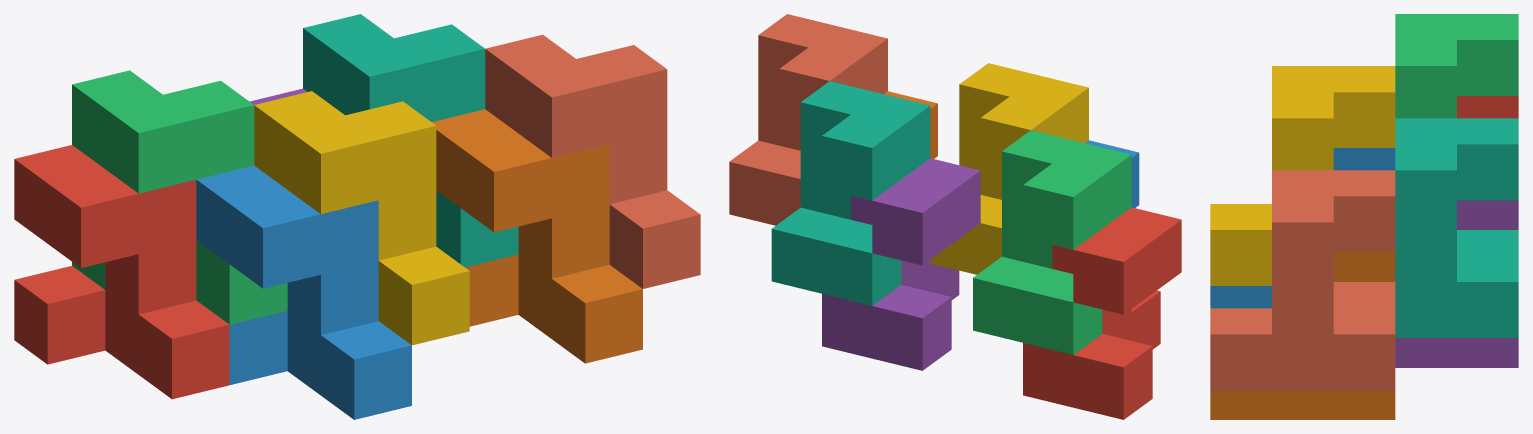
File: tiling.obj
3 views of the same model, side by side, from view 1: azimuth 30°, elevation 25°; view 2: azimuth 150°, elevation 25°; view 3: azimuth 270°, elevation 25° (orthographic). The views are drawn at different scales.
Visible parts, largest first — view 1: copy_1_domain_1, copy_1_domain_2, copy_1_domain_6, copy_1_domain_4, copy_1_domain_8, copy_1_domain_3, copy_1_domain_7; view 2: copy_1_domain_7, copy_1_domain_3, copy_1_domain_1, copy_1_domain_5, copy_1_domain_8, copy_1_domain_4, copy_1_domain_2, copy_1_domain_6; view 3: copy_1_domain_8, copy_1_domain_7, copy_1_domain_4, copy_1_domain_3, copy_1_domain_6, copy_1_domain_5, copy_1_domain_2, copy_1_domain_1.
Boxes of the visible parts, box(x1,y1,x2,y2) form: copy_1_domain_1: box(14, 145, 229, 399); copy_1_domain_2: box(196, 165, 411, 419); copy_1_domain_6: box(432, 109, 642, 363); copy_1_domain_4: box(254, 91, 469, 345); copy_1_domain_8: box(485, 34, 700, 288); copy_1_domain_3: box(72, 70, 287, 324); copy_1_domain_7: box(303, 14, 518, 267); copy_1_domain_7: box(771, 81, 930, 305); copy_1_domain_3: box(973, 130, 1131, 354); copy_1_domain_1: box(1023, 207, 1181, 419); copy_1_domain_5: box(822, 158, 980, 370); copy_1_domain_8: box(729, 14, 887, 225); copy_1_domain_4: box(930, 63, 1088, 274); copy_1_domain_2: box(1085, 140, 1139, 207); copy_1_domain_6: box(884, 91, 937, 158); copy_1_domain_8: box(1210, 170, 1395, 390); copy_1_domain_7: box(1395, 118, 1518, 337); copy_1_domain_4: box(1210, 66, 1395, 285); copy_1_domain_3: box(1395, 14, 1518, 118); copy_1_domain_6: box(1210, 252, 1395, 419); copy_1_domain_5: box(1395, 200, 1518, 367); copy_1_domain_2: box(1210, 148, 1395, 308); copy_1_domain_1: box(1457, 96, 1518, 118).
Size of the model in its own units: 9 by 4 by 5.
